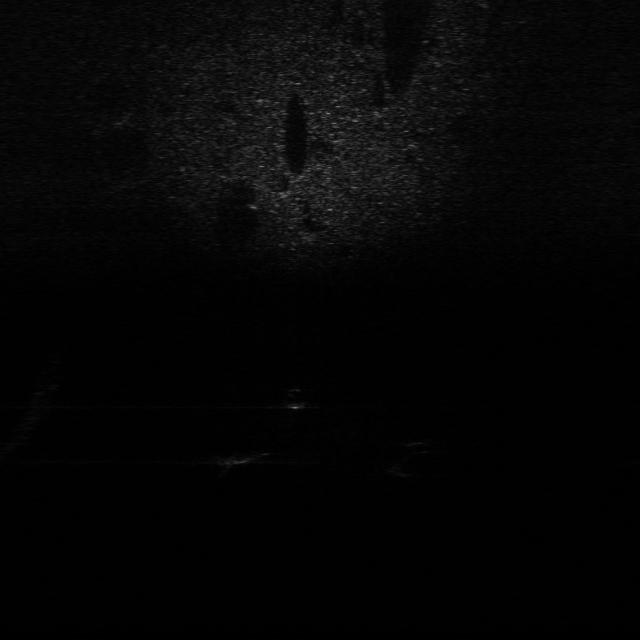ball: (272, 385, 318, 410)
square cage: (213, 446, 268, 468)
tyre: (386, 440, 446, 479)
